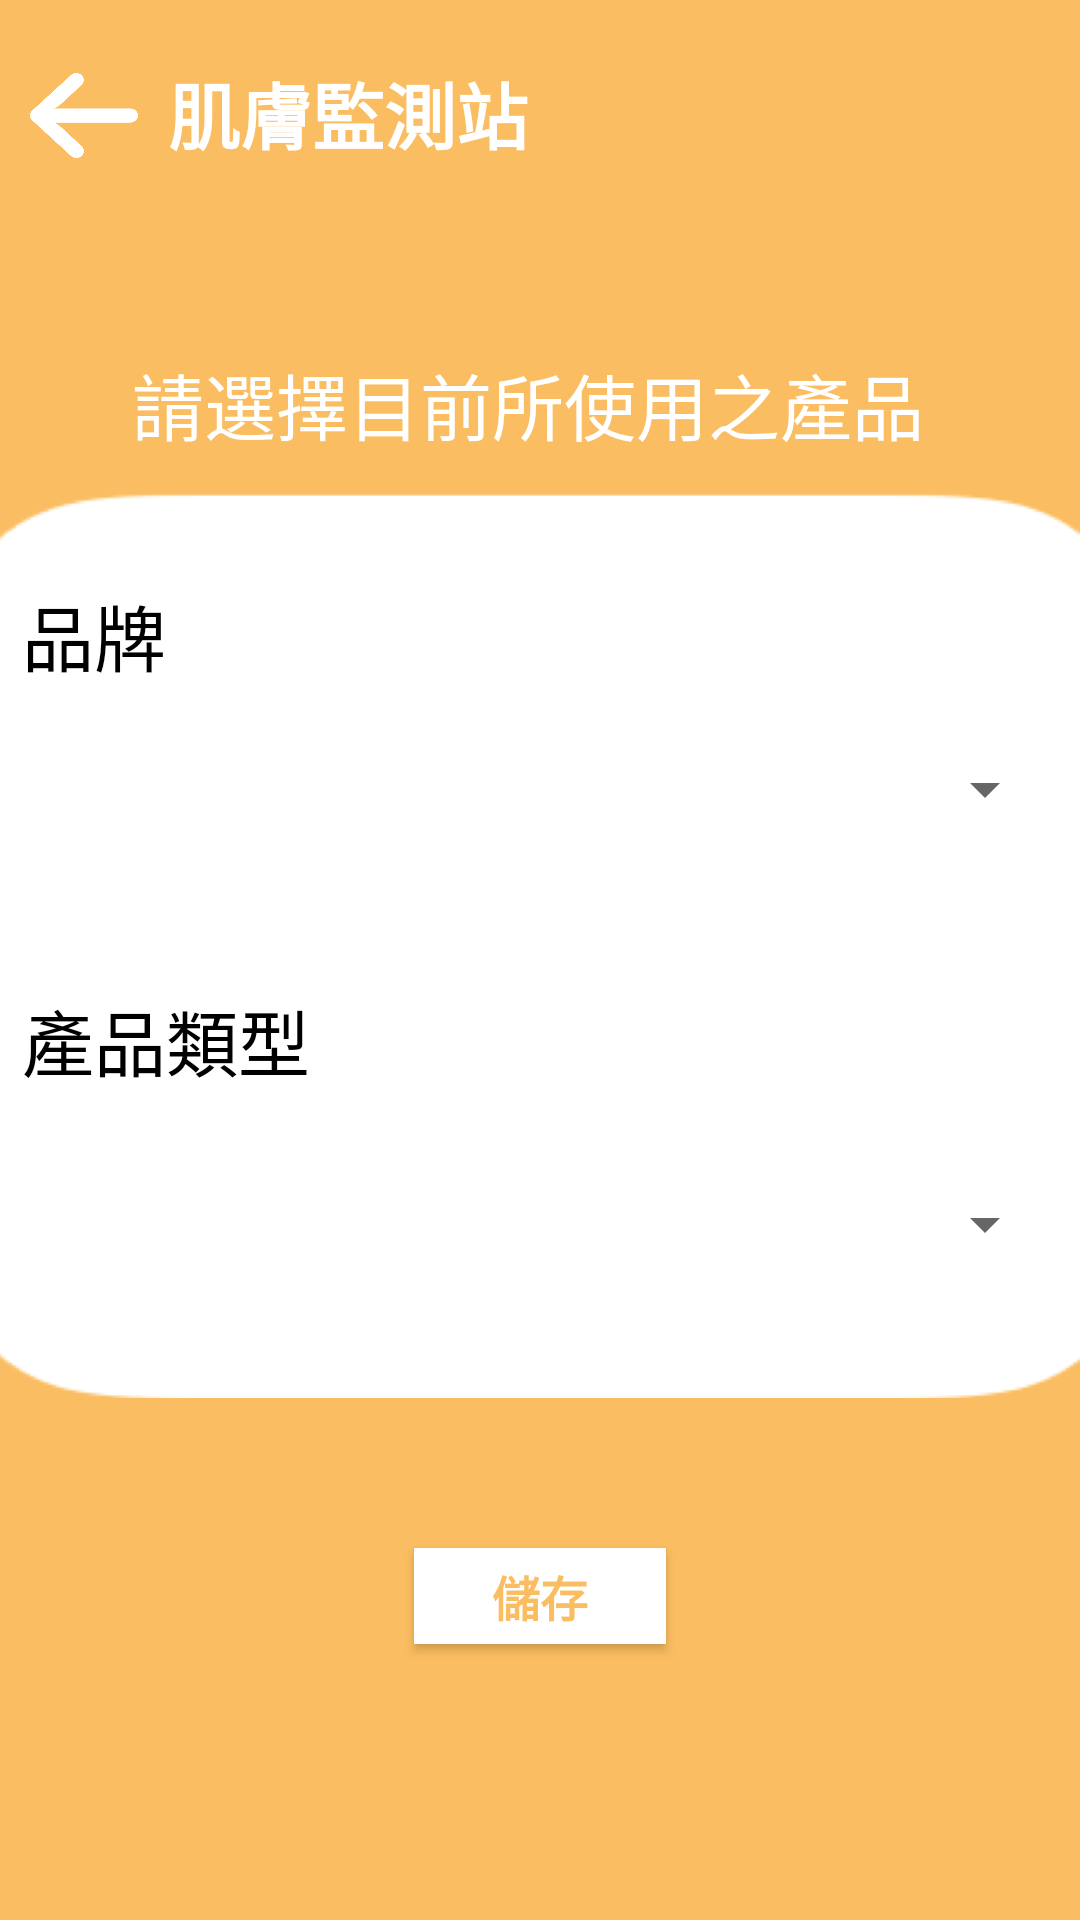

Where to tap for icons on this 1080px×1920px app screen, as (x,y):
arrow: (84,115)
